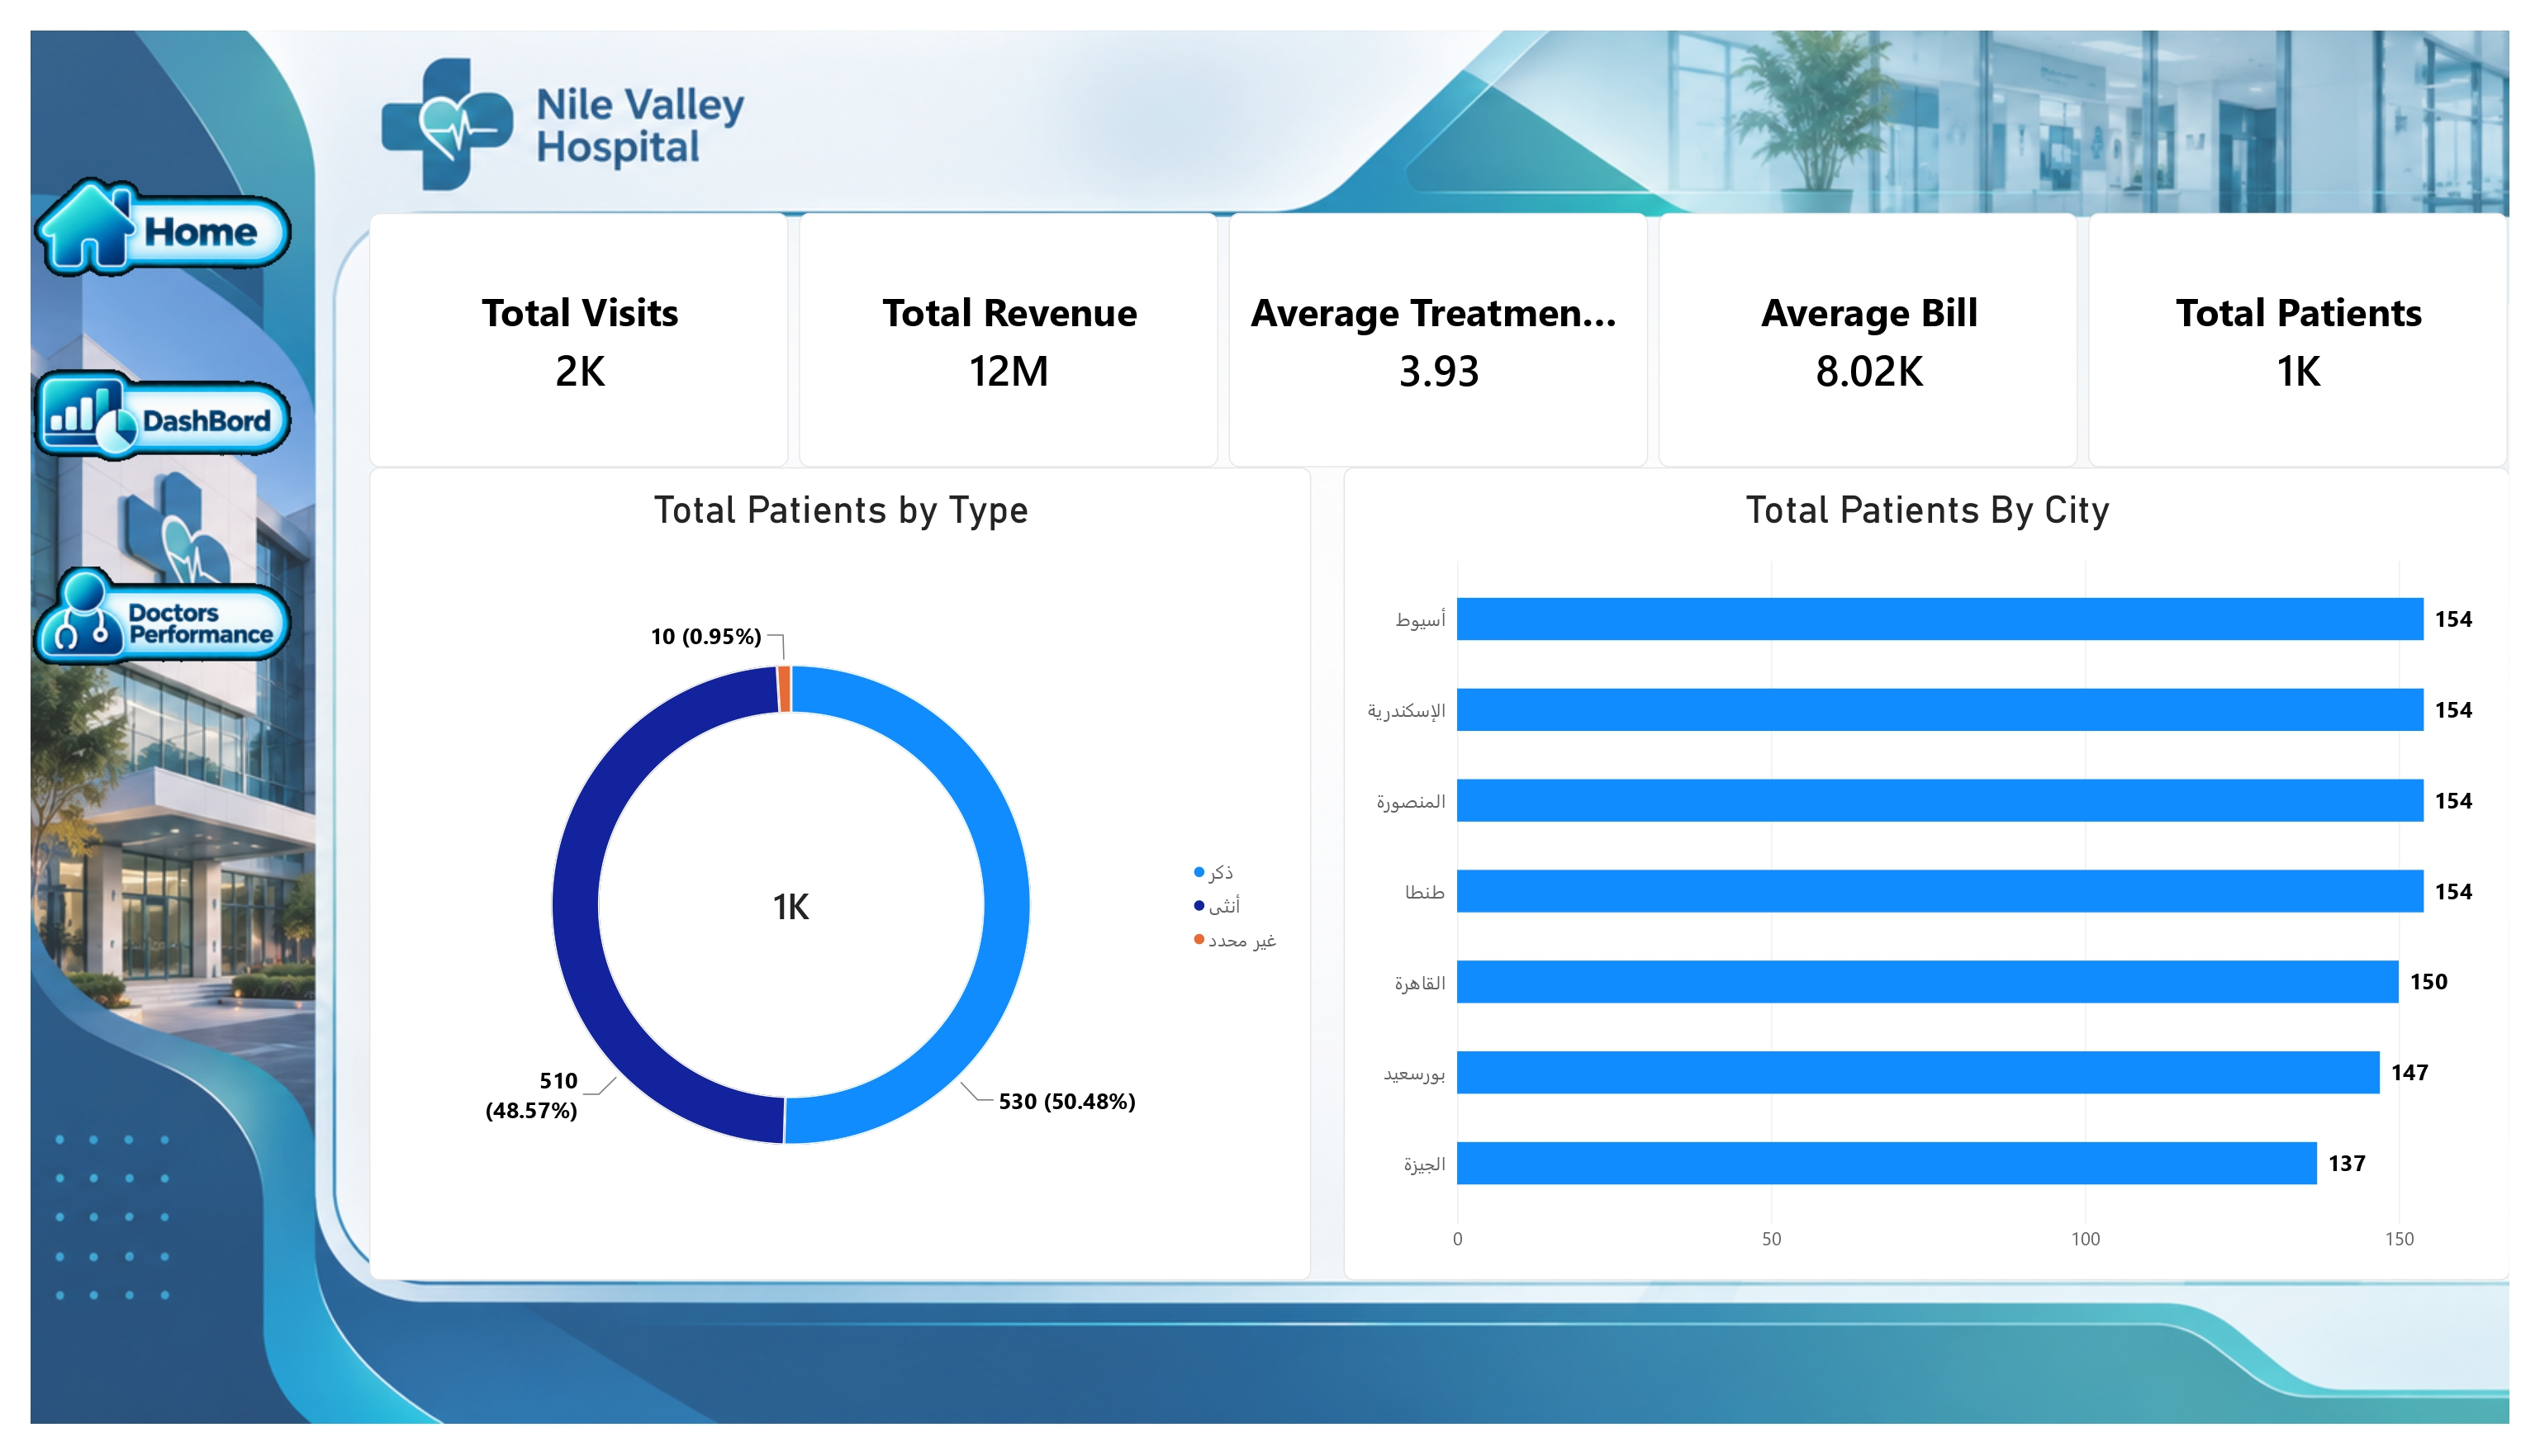

The dashboard page shown, as its layout file describes it:
{"tool":"powerbi","page":{"name":"Patients by Gender","canvas":[1920,1080],"ordinal":2},"visuals":[{"type":"cardVisual","fields":{"Data":["Dax.Total Visits","Dax.Total Revenue","Dax.Average Treatment Days","Dax.Average Bill","Dax.Total Patients"]},"box":[262,141,1658.6,196.8],"z":0},{"type":"donutChart","title":"Total Patients by Type","fields":{"Category":["patients.النوع"],"Y":["Dax.Total Patients"]},"box":[262,337.8,730.2,630.4],"z":1000},{"type":"clusteredBarChart","title":"Total Patients By City","fields":{"Category":["patients.المدينة"],"Y":["Dax.Total Patients"]},"box":[1017.5,337.8,903.1,630.4],"z":2000},{"type":"image","box":[0,75.8,206.2,150.3],"z":3000},{"type":"image","box":[0,215.5,206.2,163.6],"z":4000},{"type":"image","box":[0,379.1,206.2,150.3],"z":5000}]}

Visuals, with their boxes on the page's 1920x1080 design canvas (x1, y1, x2, y2). These are canvas units, not pixel positions in the 2540x1456 screenshot, which may show the page scaled, cropped or inside an application window:
cardVisual - Dax.Total Visits x Dax.Total Revenue: pyautogui.locateOnScreen(262, 141, 1921, 338)
"Total Patients by Type" donutChart: pyautogui.locateOnScreen(262, 338, 992, 968)
"Total Patients By City" clusteredBarChart: pyautogui.locateOnScreen(1018, 338, 1921, 968)
image: pyautogui.locateOnScreen(0, 76, 206, 226)
image: pyautogui.locateOnScreen(0, 216, 206, 379)
image: pyautogui.locateOnScreen(0, 379, 206, 529)
